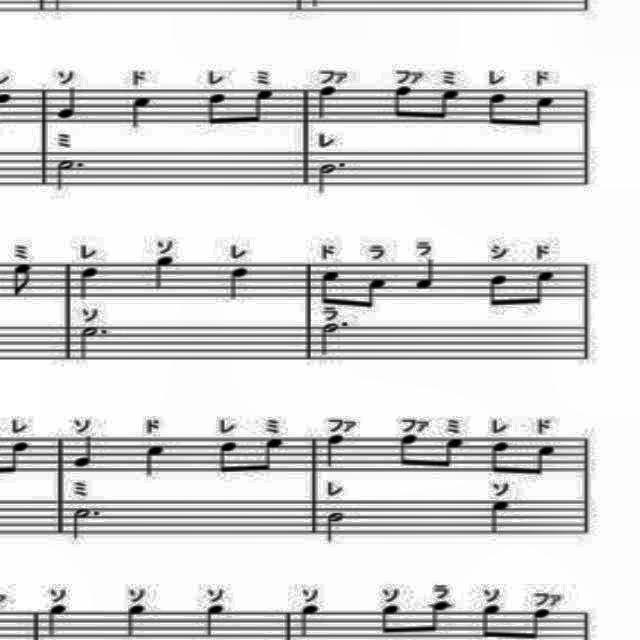Eighth-note: (242, 85, 278, 132), (524, 441, 562, 484), (317, 262, 347, 314), (202, 90, 234, 138), (382, 84, 422, 122), (354, 272, 391, 312), (431, 84, 463, 128), (524, 91, 556, 135), (483, 266, 511, 316), (477, 603, 514, 640), (256, 434, 288, 474), (480, 90, 512, 130), (436, 434, 468, 474), (528, 264, 556, 308), (393, 431, 422, 473), (214, 437, 240, 481), (487, 434, 513, 478), (8, 261, 38, 299), (426, 596, 454, 636), (528, 602, 556, 640), (378, 600, 402, 636)
Half-dot: (73, 322, 115, 363), (311, 158, 349, 198), (52, 154, 86, 194), (69, 505, 103, 543), (318, 320, 350, 360)
Half-note: (319, 506, 356, 546)
Quarter-note: (291, 602, 329, 640), (312, 83, 344, 125), (147, 252, 180, 292), (483, 496, 512, 540), (228, 266, 256, 310), (410, 256, 442, 294), (125, 94, 156, 132), (121, 602, 151, 640), (199, 600, 227, 640), (54, 84, 82, 122), (78, 264, 104, 302), (71, 434, 97, 471), (46, 600, 70, 640), (144, 441, 168, 479), (325, 432, 347, 472)
